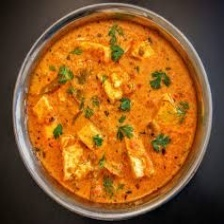sabzi: (20, 15, 199, 213)
